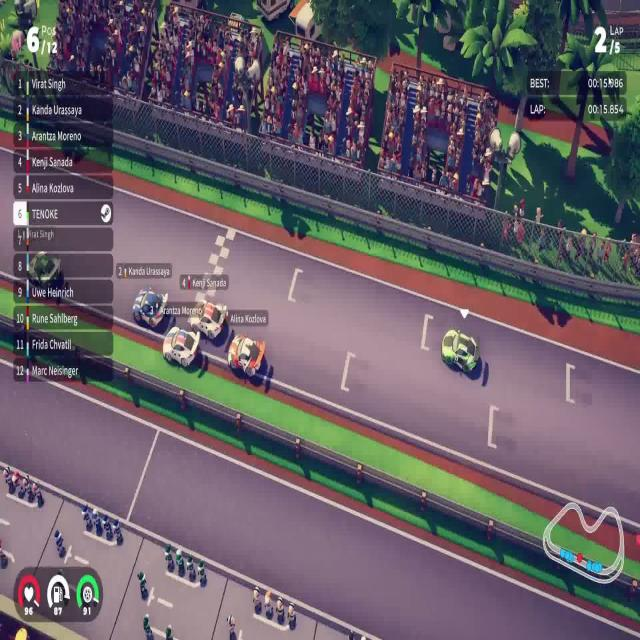car: (440, 327, 480, 375), (227, 333, 266, 378), (188, 299, 228, 340), (162, 325, 200, 368), (132, 286, 168, 330)
